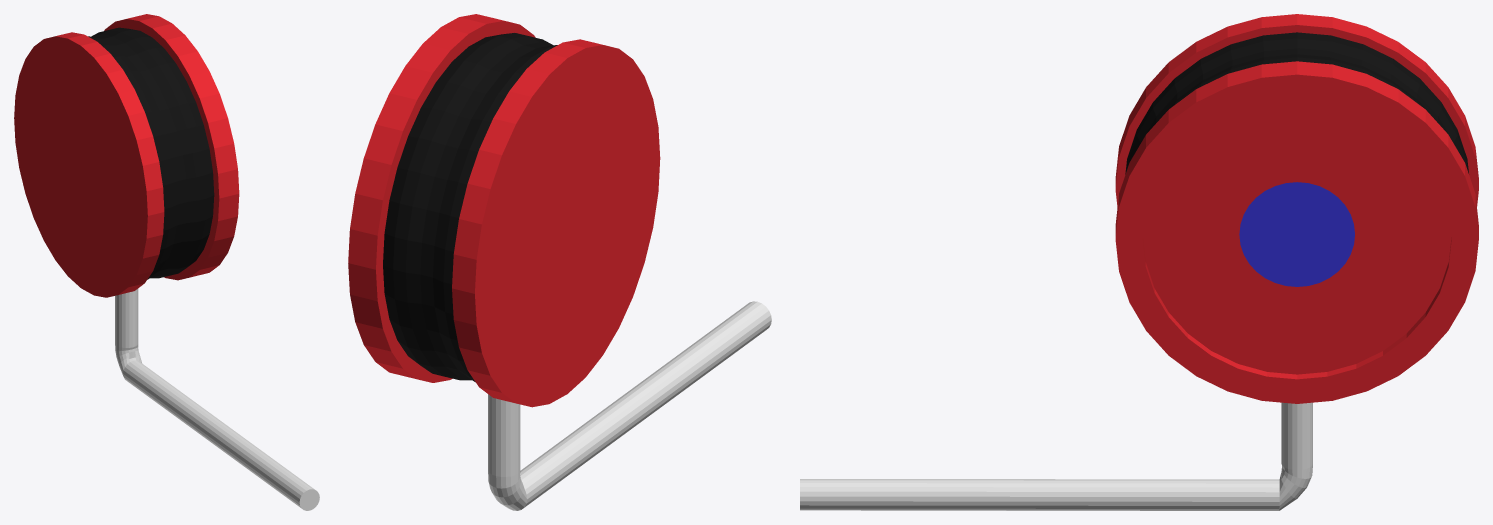
Rendered from fire_hose.fbx.
3 views of the same model, side by side, from view 1: azimuth 30°, elevation 25°; view 2: azimuth 150°, elevation 25°; view 3: azimuth 270°, elevation 25° (orthographic). The views are drawn at different scales.
Parts seen in each view (by area): view 1: Cylinder, Cylinder.001; view 2: Cylinder, Cylinder.001; view 3: Cylinder, Cylinder.001.
Part boxes in pixels (box(x1,y1,x2,y2)): Cylinder: box(14, 14, 239, 297); Cylinder.001: box(115, 288, 319, 510); Cylinder: box(348, 14, 660, 407); Cylinder.001: box(488, 301, 771, 510); Cylinder: box(1115, 14, 1478, 403); Cylinder.001: box(800, 402, 1312, 510).
Bounding box in the file's own units: 78.93 × 283 × 374.
